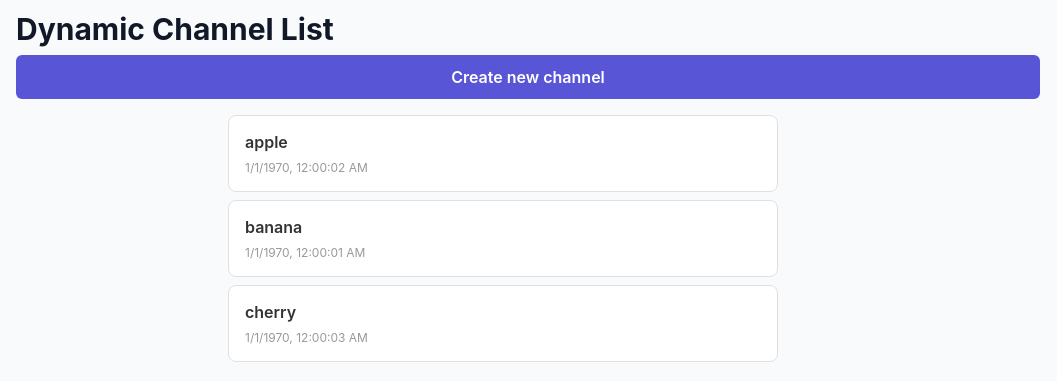
Scenario: Home Page Integration › should disable button during creation
Click the button "Create new channel" at point(528, 77), box [16,55,1040,99]
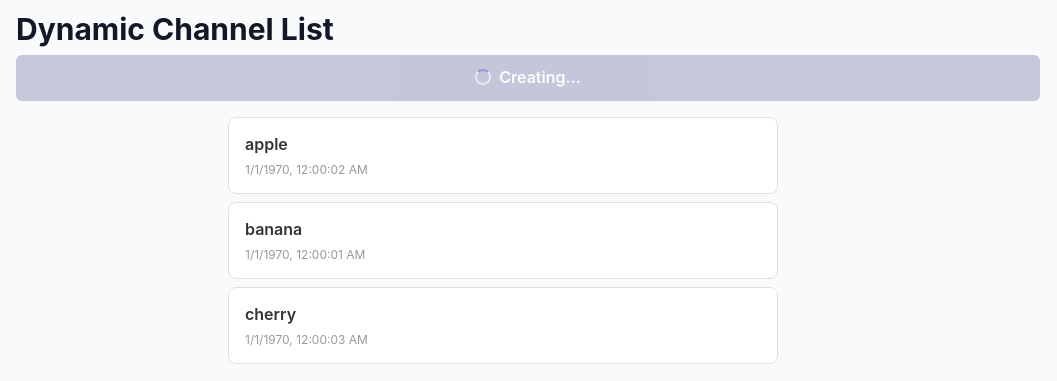
expect the button "Creating..." is disabled: met, box [16,55,1040,101]
